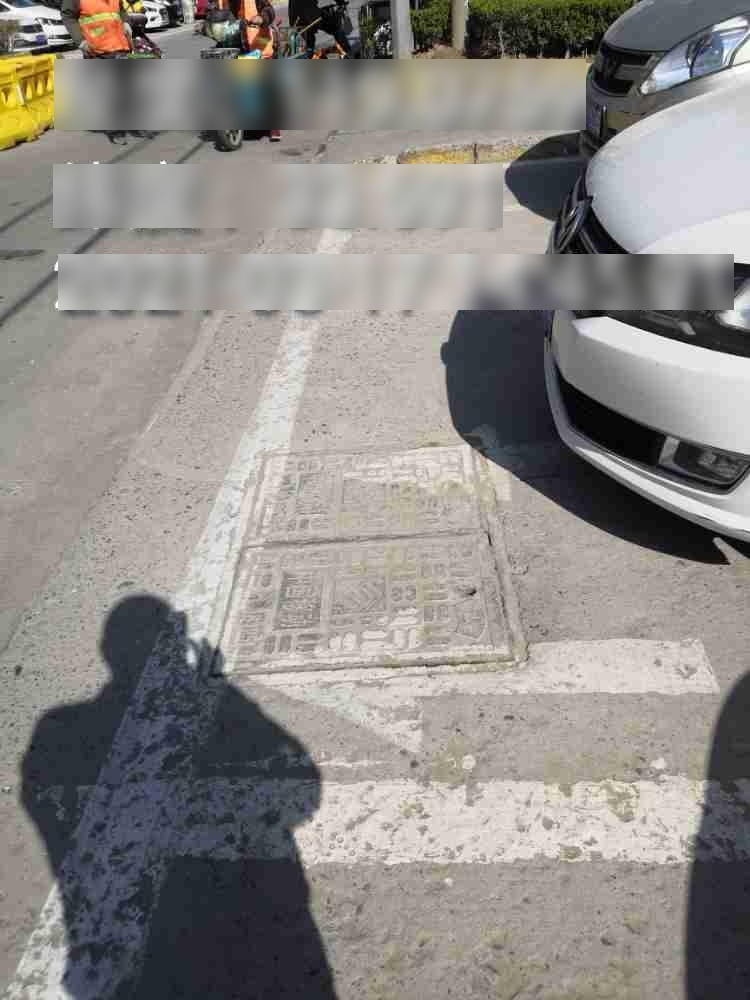good: (197, 440, 533, 687)
